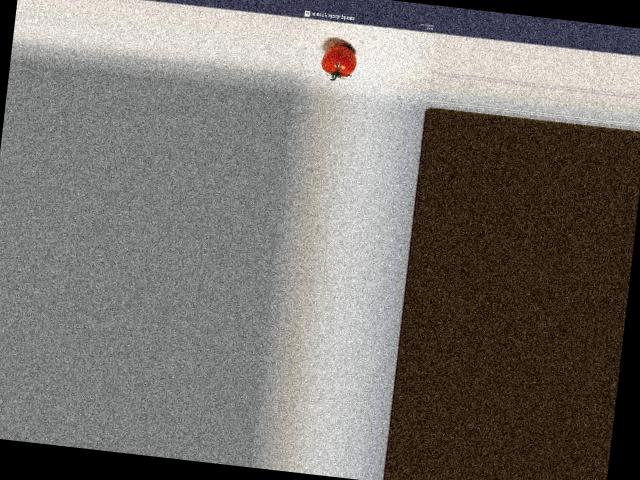tomato: (321, 42, 358, 77)
